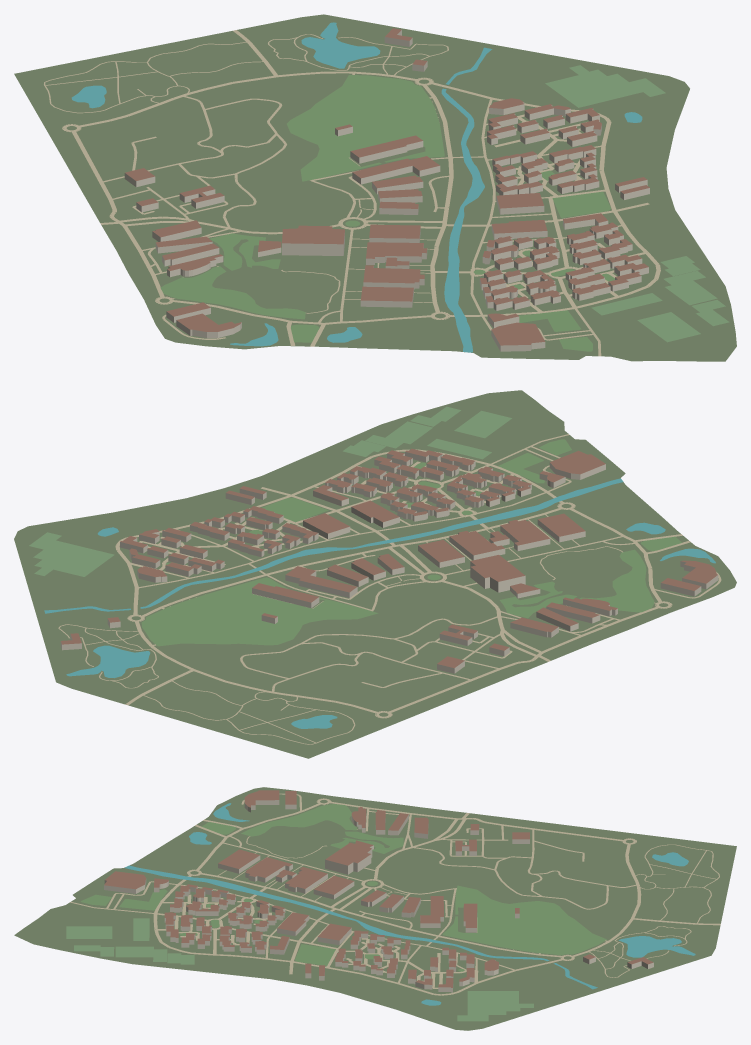
3 views of the same model, one above another, from view 1: azimuth 30°, elevation 25°; view 2: azimuth 150°, elevation 25°; view 3: azimuth 270°, elevation 25° (orthographic). The views are drawn at different scales.
Parts seen in each view (by area): view 1: campus-ground, environment (×4), roofs, buildings; view 2: campus-ground, environment (×4), roofs, buildings; view 3: campus-ground, environment (×4), roofs, buildings.
Boxes of the visible parts, x1,y1,x2,y2 form: campus-ground: [14, 14, 736, 361]; environment (×4): [44, 22, 729, 356]; roofs: [125, 28, 649, 345]; buildings: [124, 30, 649, 351]; campus-ground: [14, 390, 736, 758]; environment (×4): [29, 406, 721, 744]; roofs: [61, 448, 717, 668]; buildings: [60, 452, 718, 673]; campus-ground: [14, 787, 736, 1030]; environment (×4): [66, 793, 720, 1021]; roofs: [104, 790, 653, 987]; buildings: [104, 800, 653, 992].
Bounding box in the file's own units: 1329 × 23.3 × 1667.
